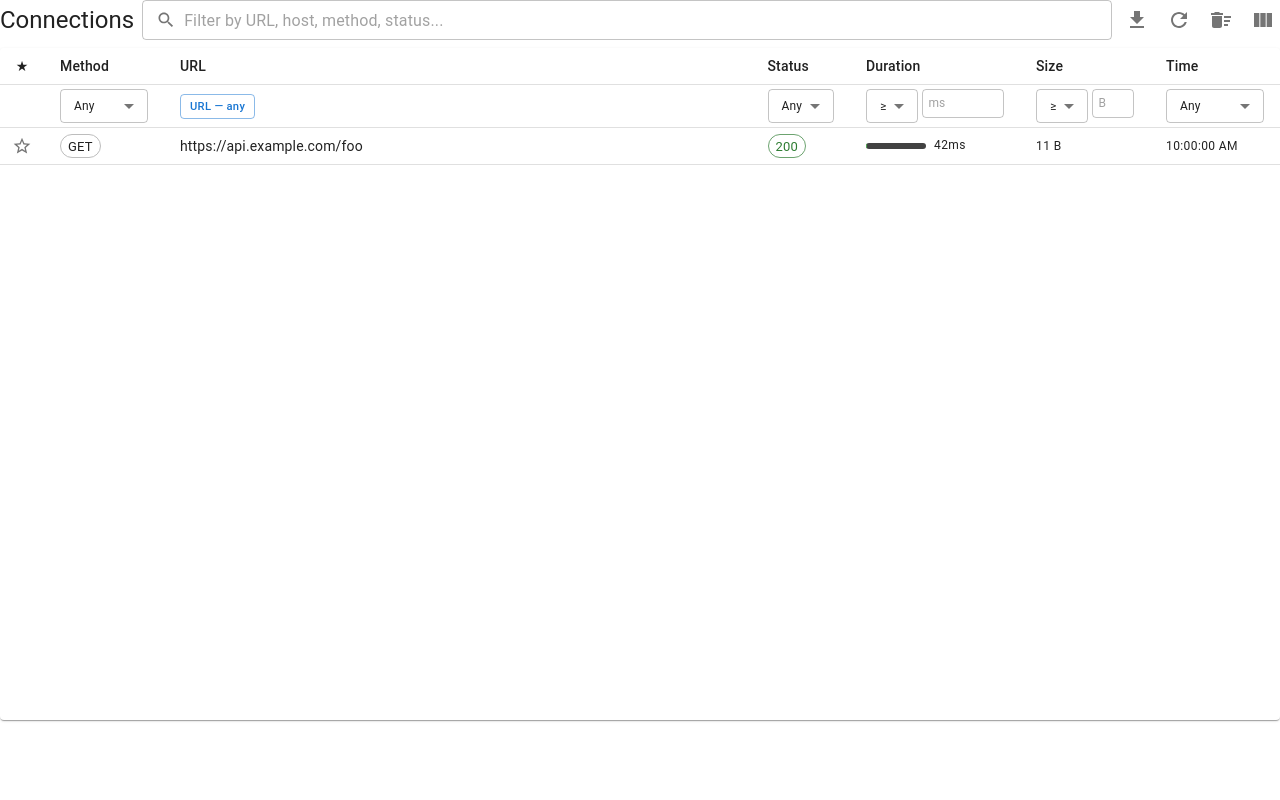
Test: ConnectionsPage — formatters › errors with a toast when the JSON body is unparseable
This screenshot has width=1280, height=800.
Click the text "https://api.example.com/foo" at (458, 147), box [164,128,752,165]
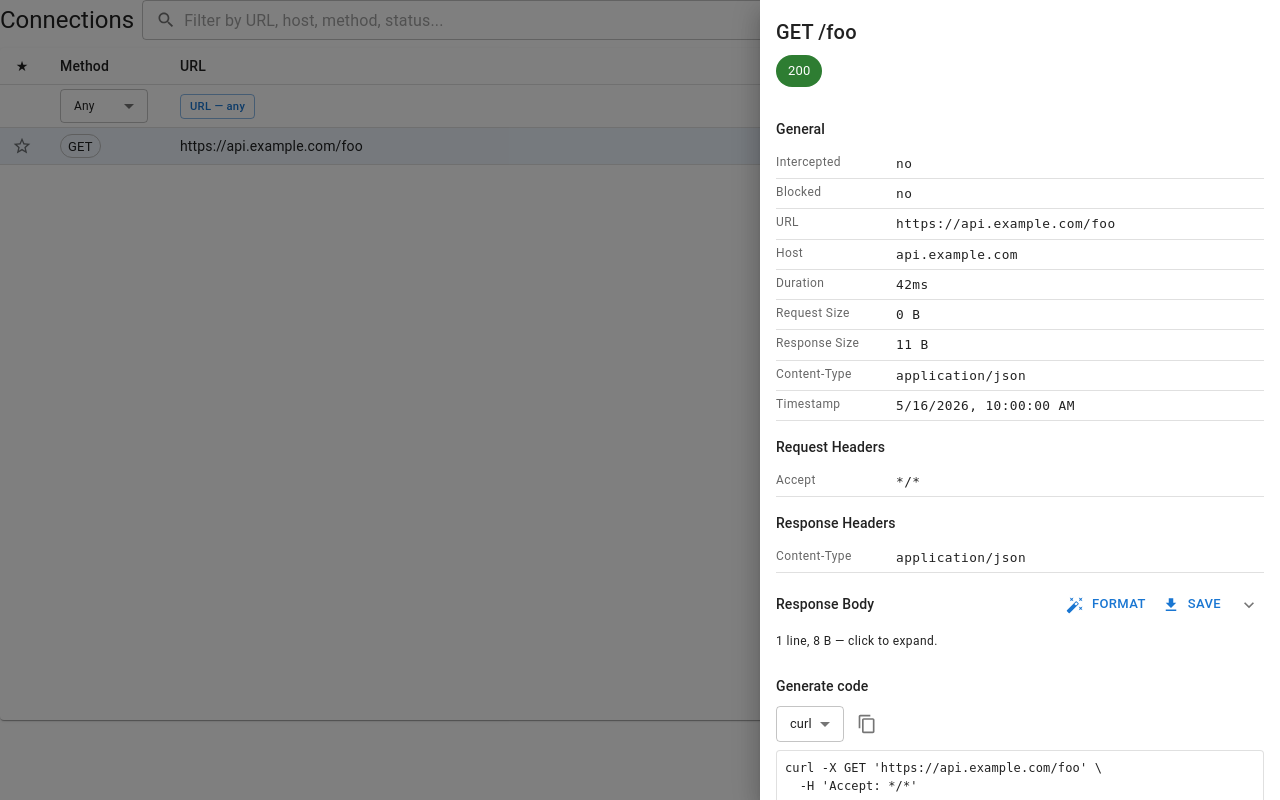
Click the button with test id "response-body-format" at (1107, 605), box [1063,590,1151,620]
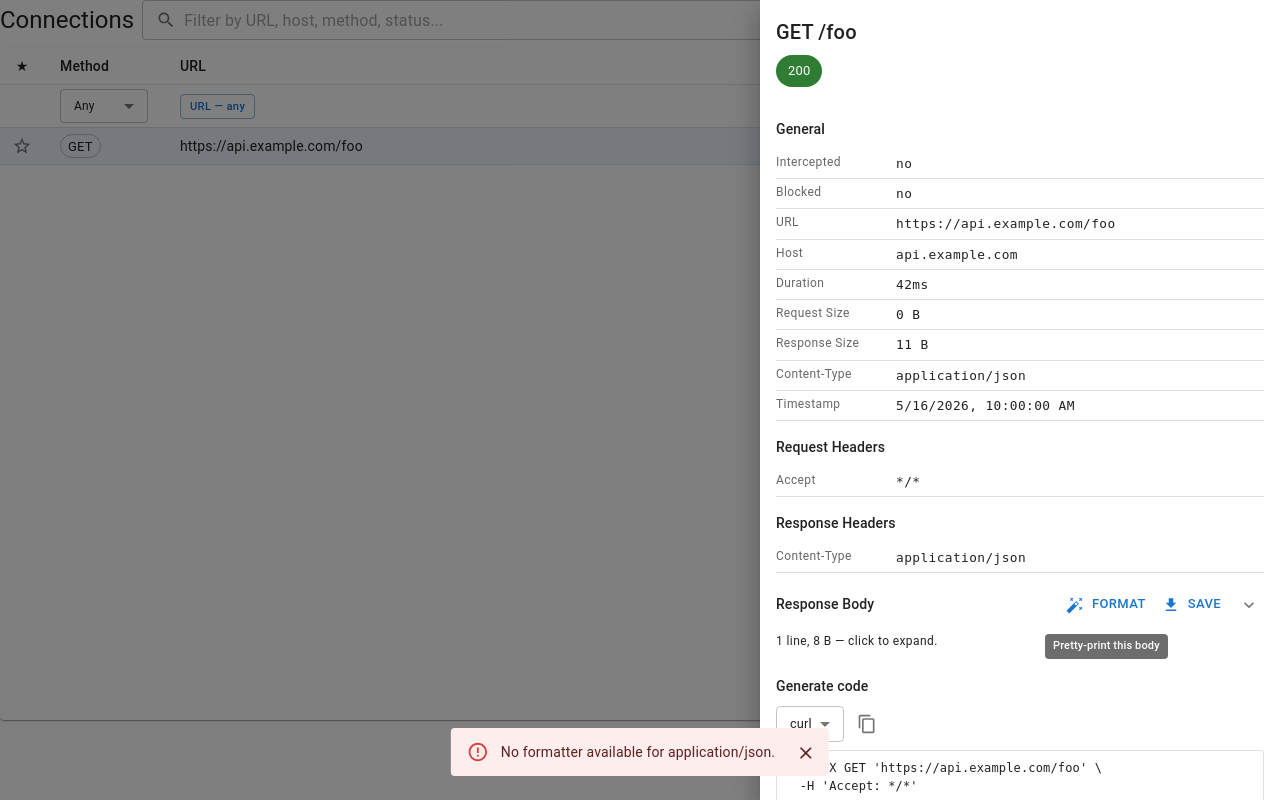
Result: the text "No formatter available for application/json." is shown at [501,744,775,760]
